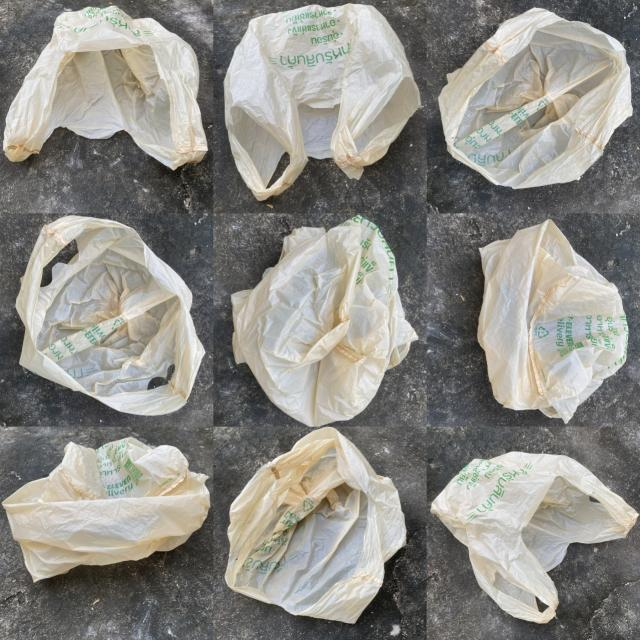Single-layer Plastic: (231, 216, 418, 426), (225, 4, 420, 200), (16, 216, 205, 415), (431, 451, 638, 624), (225, 428, 406, 623), (439, 8, 632, 189), (4, 6, 208, 170), (478, 220, 629, 422), (2, 438, 210, 581)
